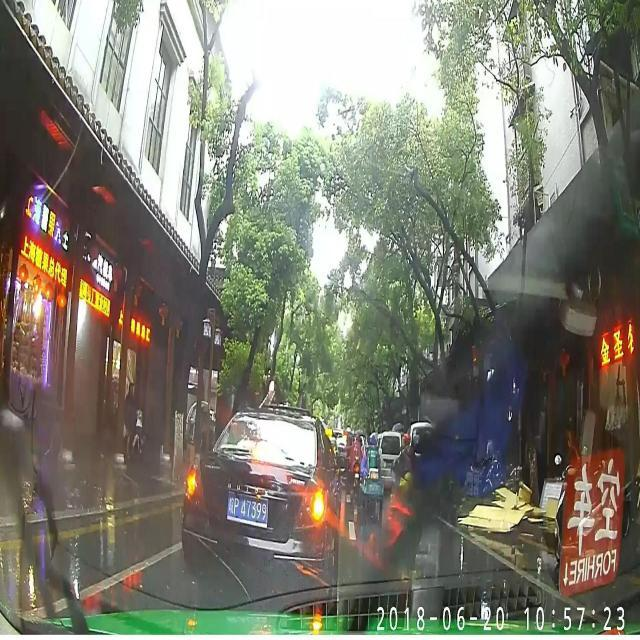car: (183, 406, 334, 570)
